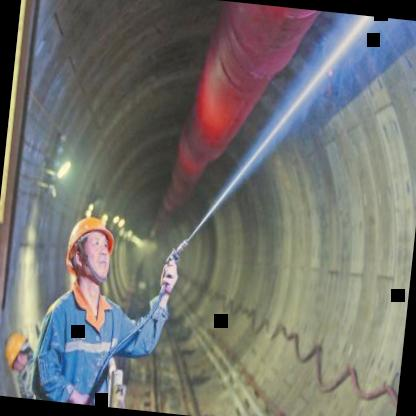helmet: (59, 204, 125, 300), (2, 328, 36, 377)
